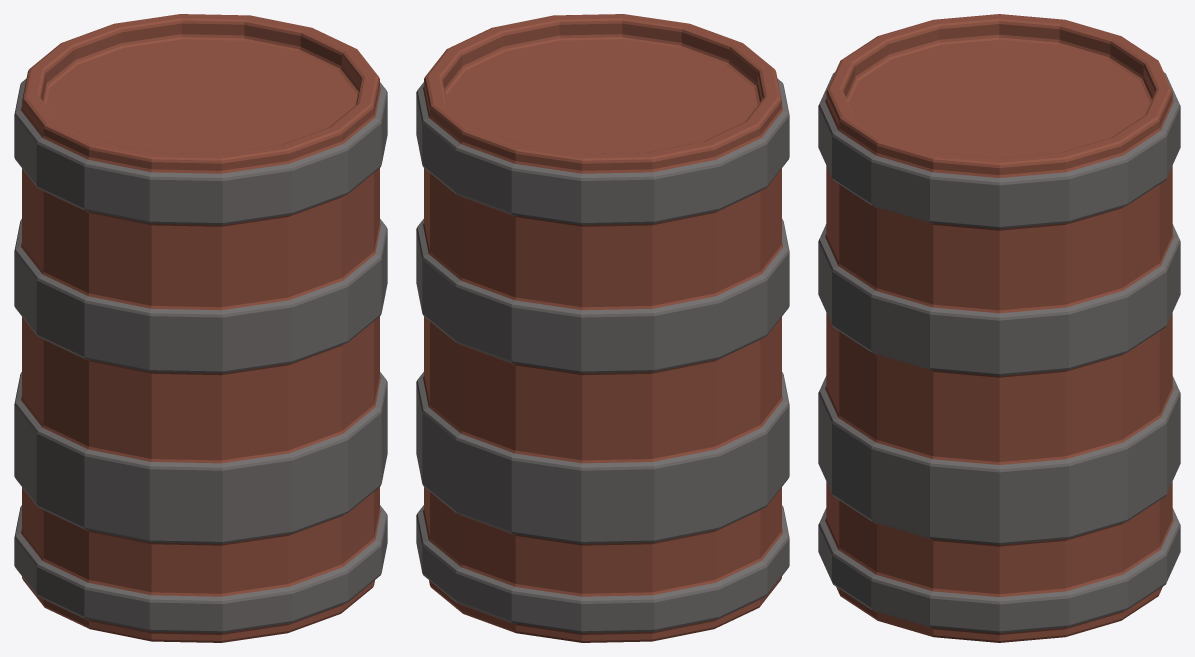
File: Barrell.fbx
3 views of the same model, side by side, from view 1: azimuth 30°, elevation 25°; view 2: azimuth 150°, elevation 25°; view 3: azimuth 270°, elevation 25° (orthographic).
Parts seen in each view (by area): view 1: Barrell; view 2: Barrell; view 3: Barrell.
Boxes of the visible parts, x1,y1,x2,y2 form: Barrell: [14, 14, 387, 642]; Barrell: [416, 14, 789, 642]; Barrell: [818, 14, 1180, 642].
Bounding box in the file's own units: 91.65 × 88.36 × 129.
